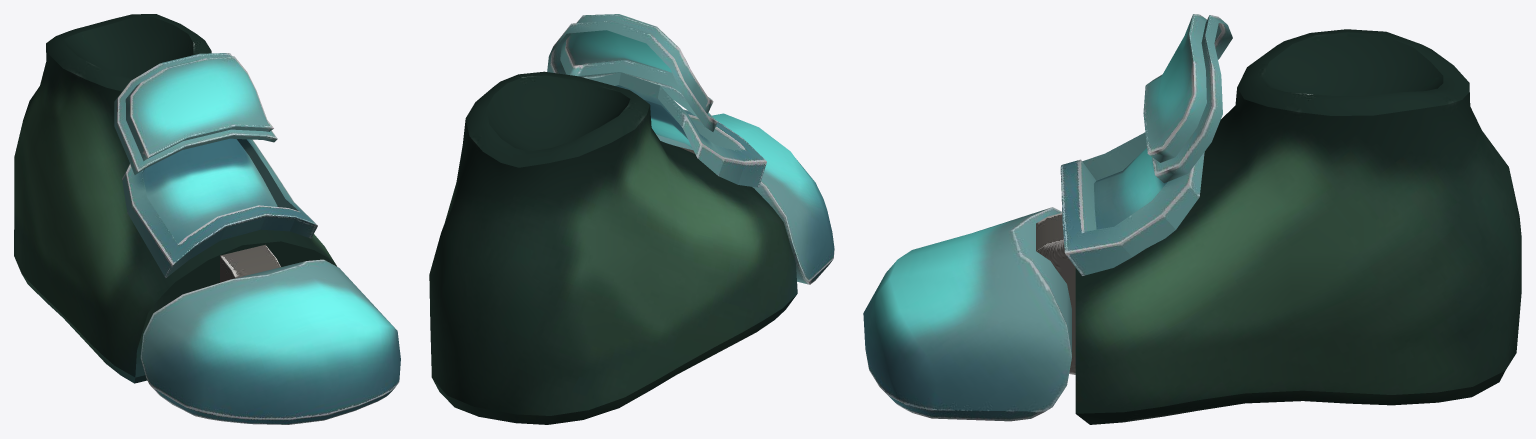
Rendered from footR.fbx.
3 views of the same model, side by side, from view 1: azimuth 30°, elevation 25°; view 2: azimuth 150°, elevation 25°; view 3: azimuth 270°, elevation 25° (orthographic). The views are drawn at different scales.
Visible parts, largest first — view 1: matte_0.007, metalic_1.001, metalic_0.006; view 2: matte_0.007, metalic_0.006, metalic_1.001; view 3: matte_0.007, metalic_1.001, metalic_0.006.
Part boxes in pixels (x1=…): matte_0.007: x1=14, y1=14, x2=336, y2=383; metalic_1.001: x1=140, y1=259, x2=400, y2=424; metalic_0.006: x1=114, y1=53, x2=317, y2=277; matte_0.007: x1=429, y1=71, x2=797, y2=424; metalic_0.006: x1=547, y1=14, x2=766, y2=187; metalic_1.001: x1=656, y1=113, x2=834, y2=284; matte_0.007: x1=1036, y1=29, x2=1521, y2=424; metalic_1.001: x1=863, y1=207, x2=1071, y2=421; metalic_0.006: x1=1060, y1=14, x2=1232, y2=275.
Bounding box in the file's own units: 374 × 789 × 442.
